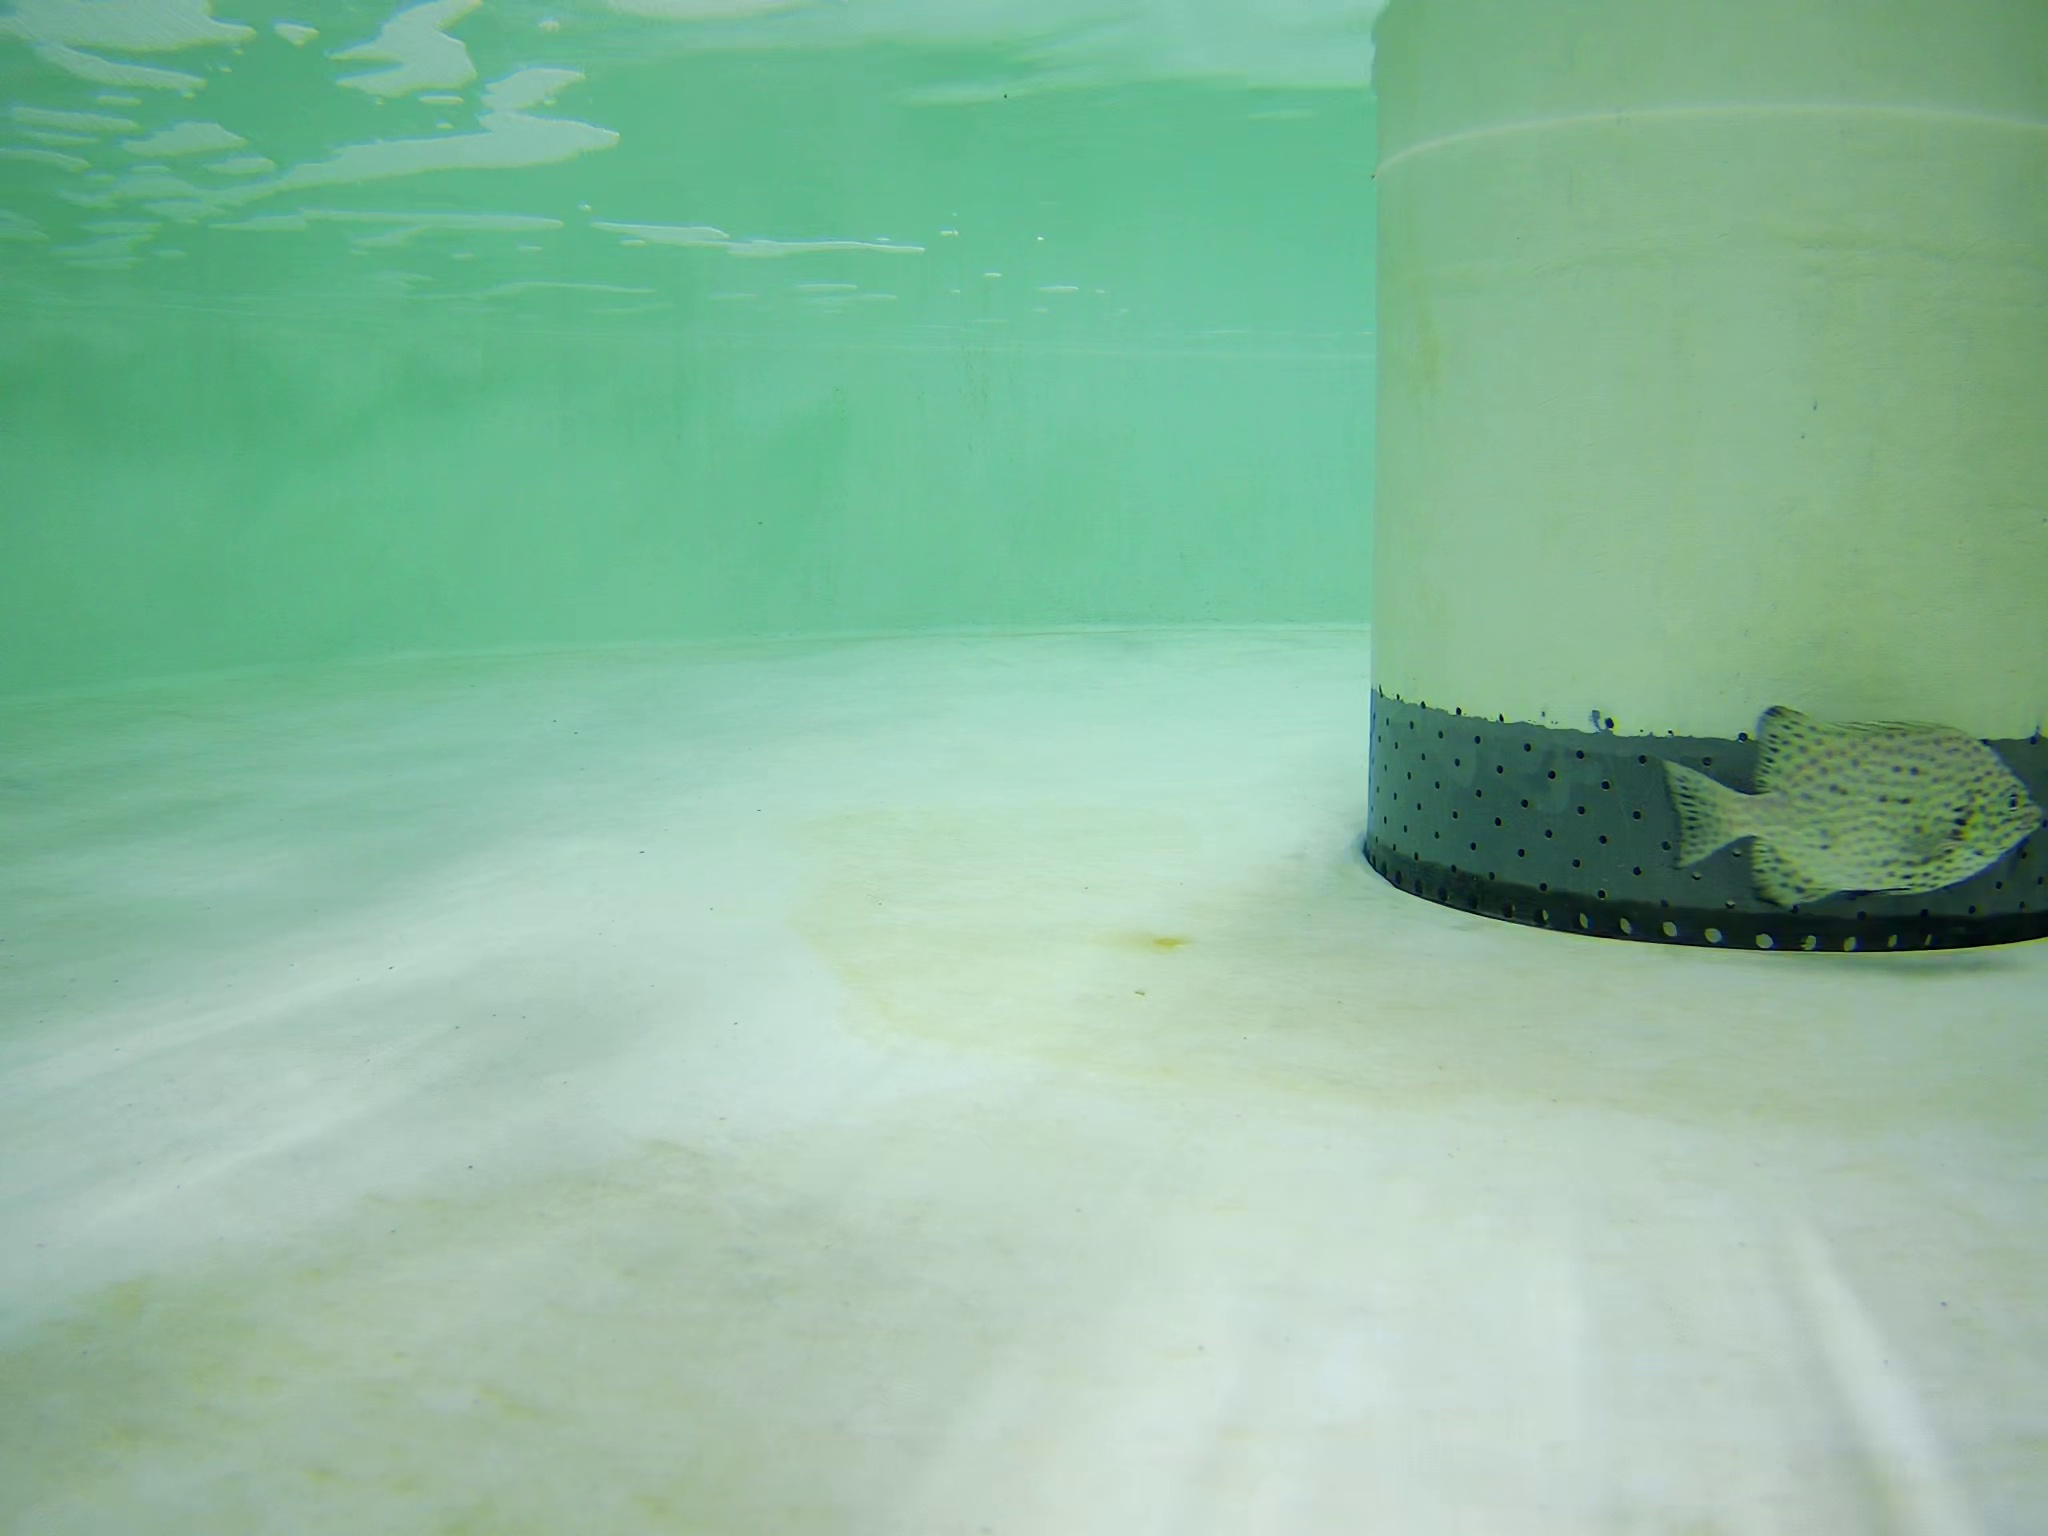fish: (1646, 705, 2043, 921)
